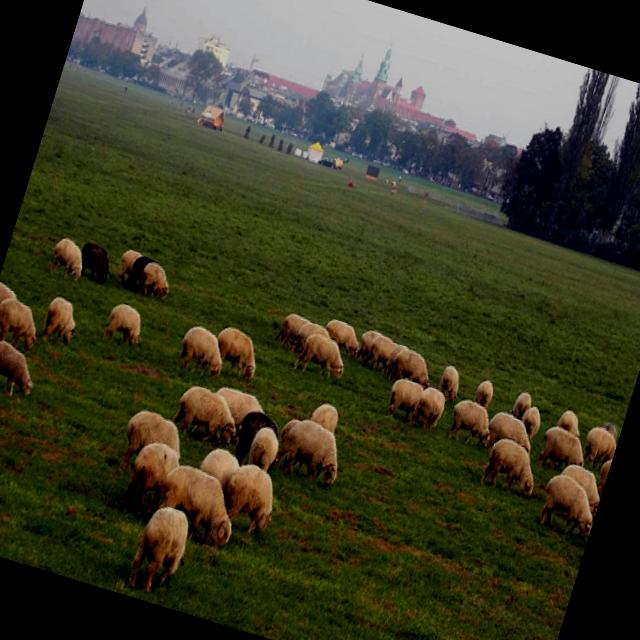Vehicle: (317, 156, 335, 168)
